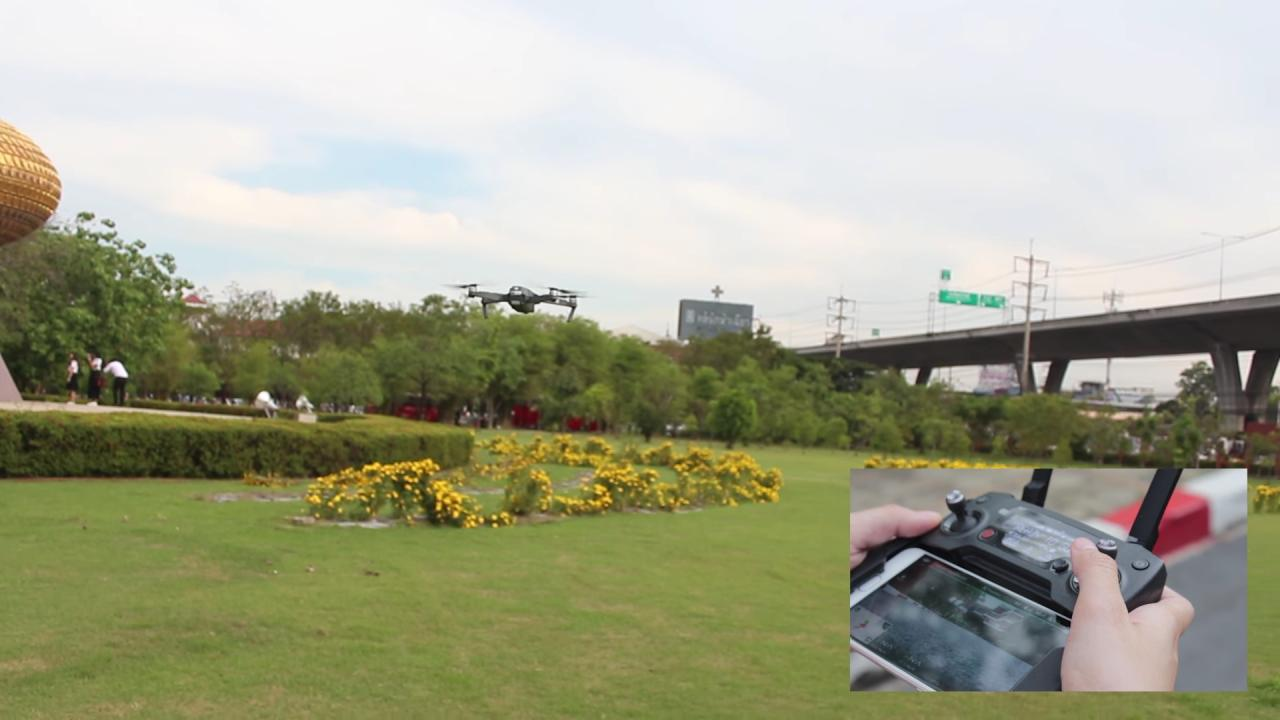Drone: (434, 272, 604, 332)
